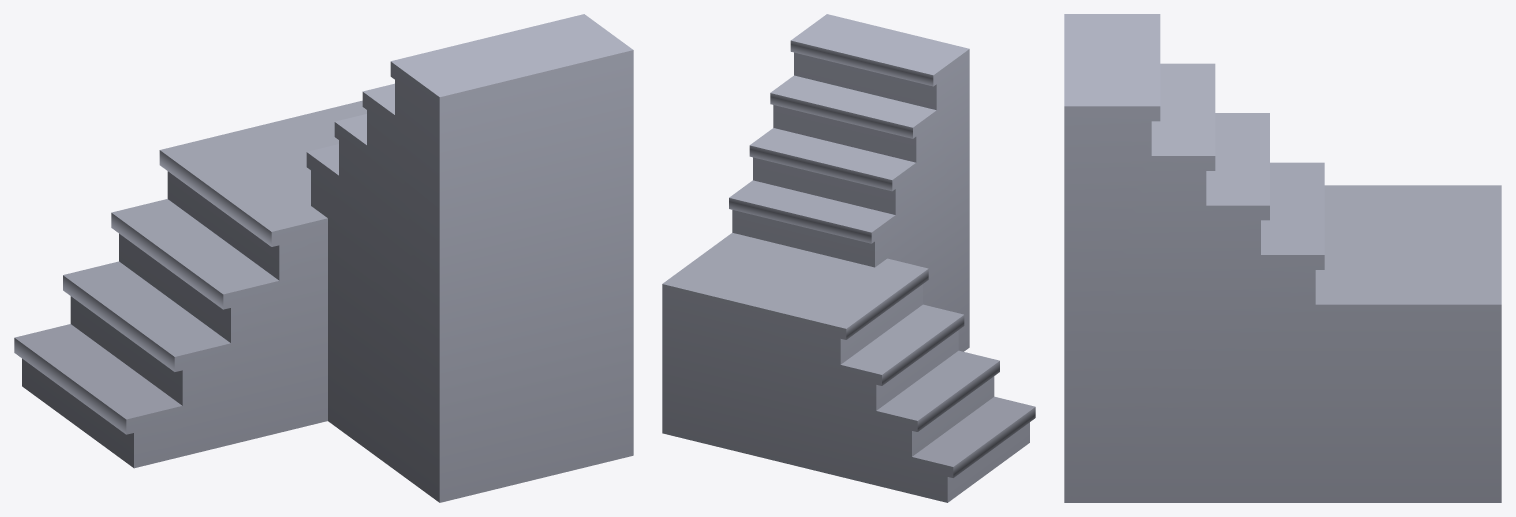
Rendered from stairs-stone-corner.glb.
3 views of the same model, side by side, from view 1: azimuth 30°, elevation 25°; view 2: azimuth 150°, elevation 25°; view 3: azimuth 270°, elevation 25° (orthographic). The views are drawn at different scales.
Parts seen in each view (by area): view 1: stairs-stone-corner; view 2: stairs-stone-corner; view 3: stairs-stone-corner.
Boxes of the visible parts, <box> form: stairs-stone-corner: <box>14,14,633,502</box>; stairs-stone-corner: <box>662,14,1035,502</box>; stairs-stone-corner: <box>1064,14,1501,502</box>.
Bounding box in the file's own units: 1.02 × 1 × 1.
